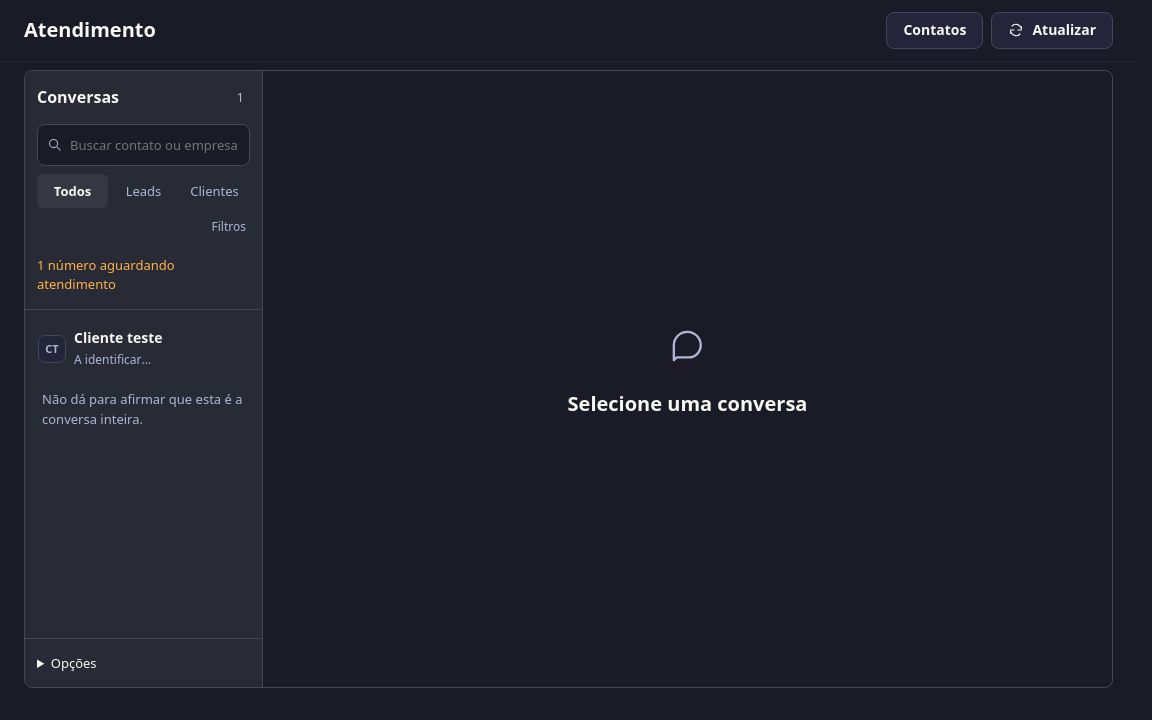
Test case: pendência permanece mesmo lida; contador assume pelo fio e mantém o histórico
The image size is (1152, 720).
Expected: the text "Precisa de atendimento" is shown, [148, 352, 249, 369]
What coordinates should you click on to do the following:
click the button with test id "conversa-cv"
I would click on:
 (144, 348)
Its box is [30, 317, 257, 380].
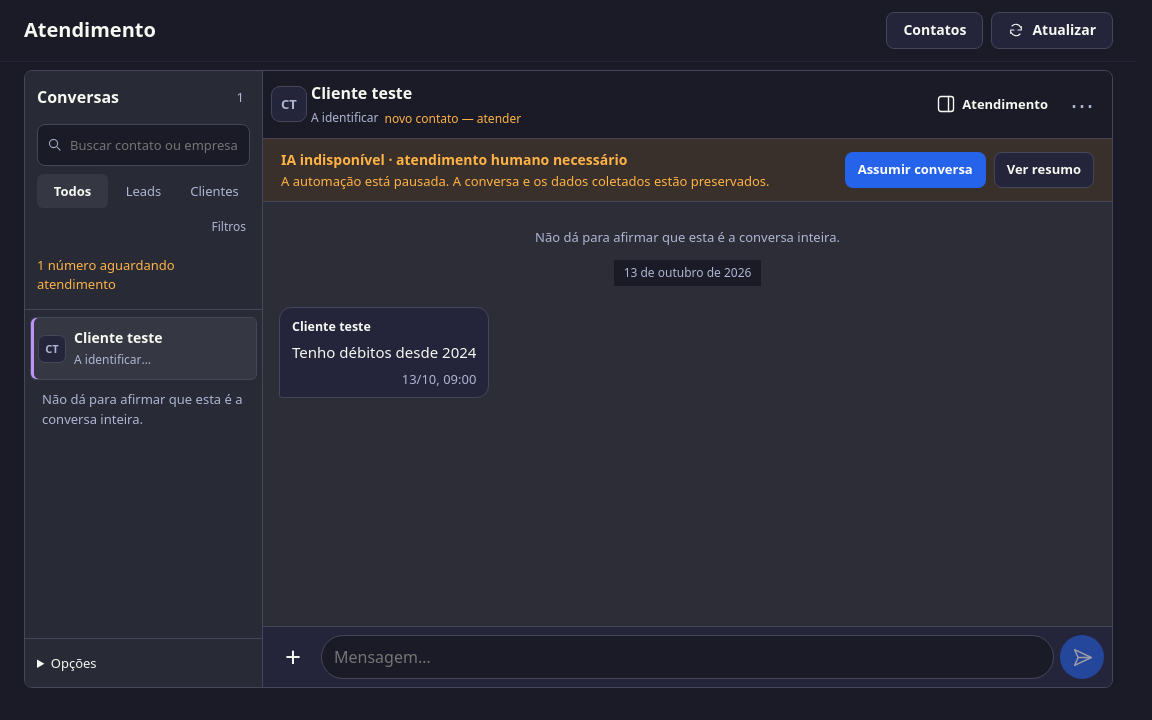
Now the text "IA indisponível · atendimento humano necessário" is shown, box [281, 150, 628, 169]
Now the text "Tenho débitos desde 2024" is shown, box [292, 342, 476, 363]
What coordinates should you click on to do the following:
click the button "Assumir conversa"
I would click on:
 (915, 170)
Its box is [845, 152, 986, 188].
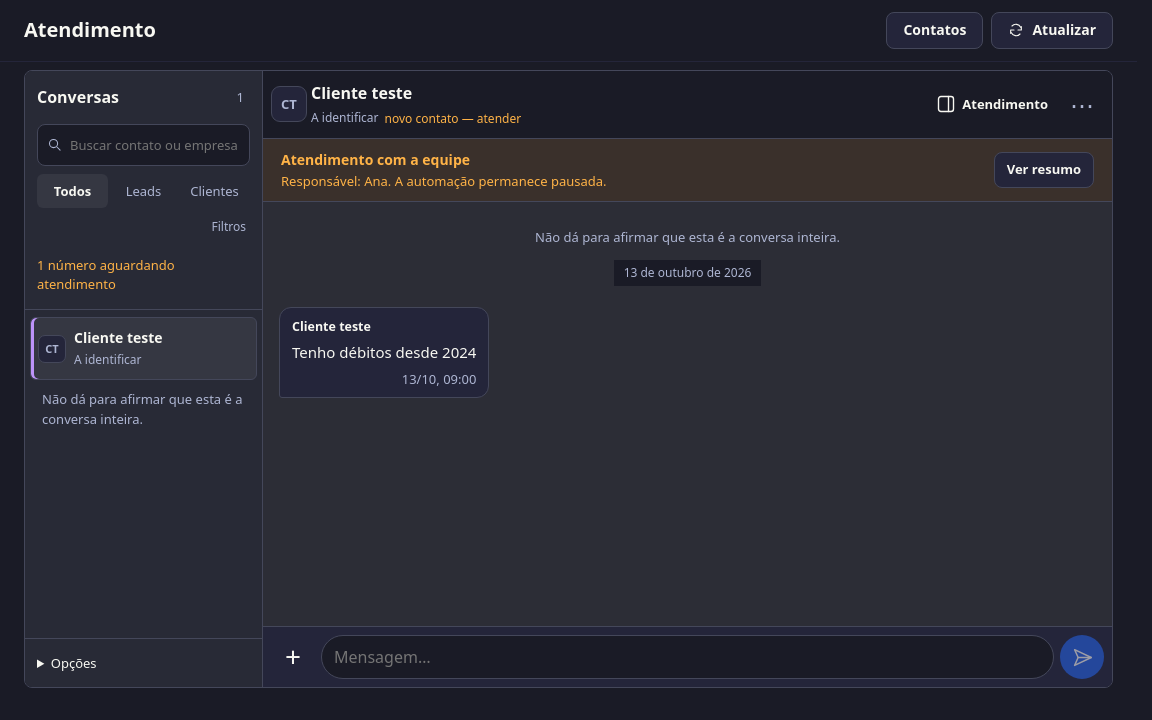
Now the text "Tenho débitos desde 2024" is shown, box [292, 342, 476, 363]
Now the text "Responsável: Ana. A automação permanece pausada." is shown, box [281, 172, 607, 191]
Now the button "Assumir conversa" is gone
